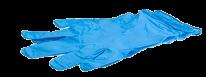gloves: (20, 8, 203, 72)
